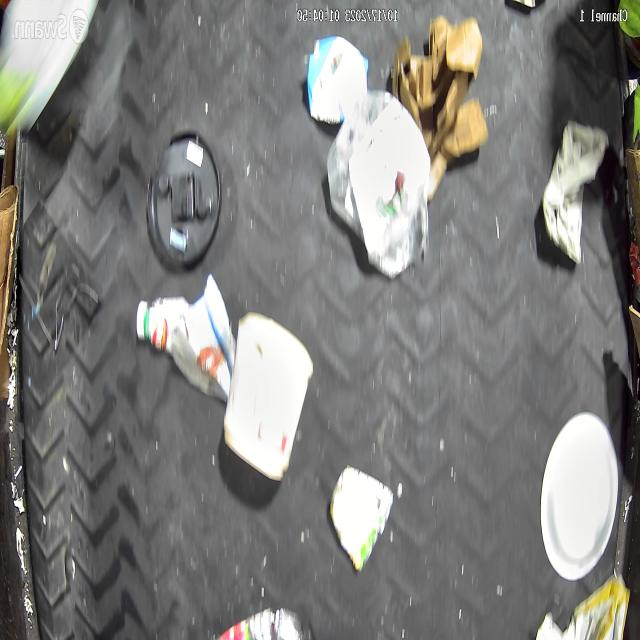non_white_jug: (307, 36, 368, 124)
